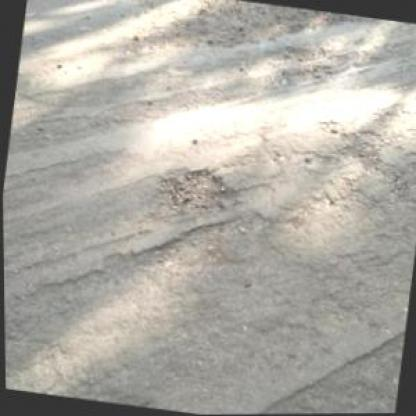pothole: (154, 162, 240, 219)
